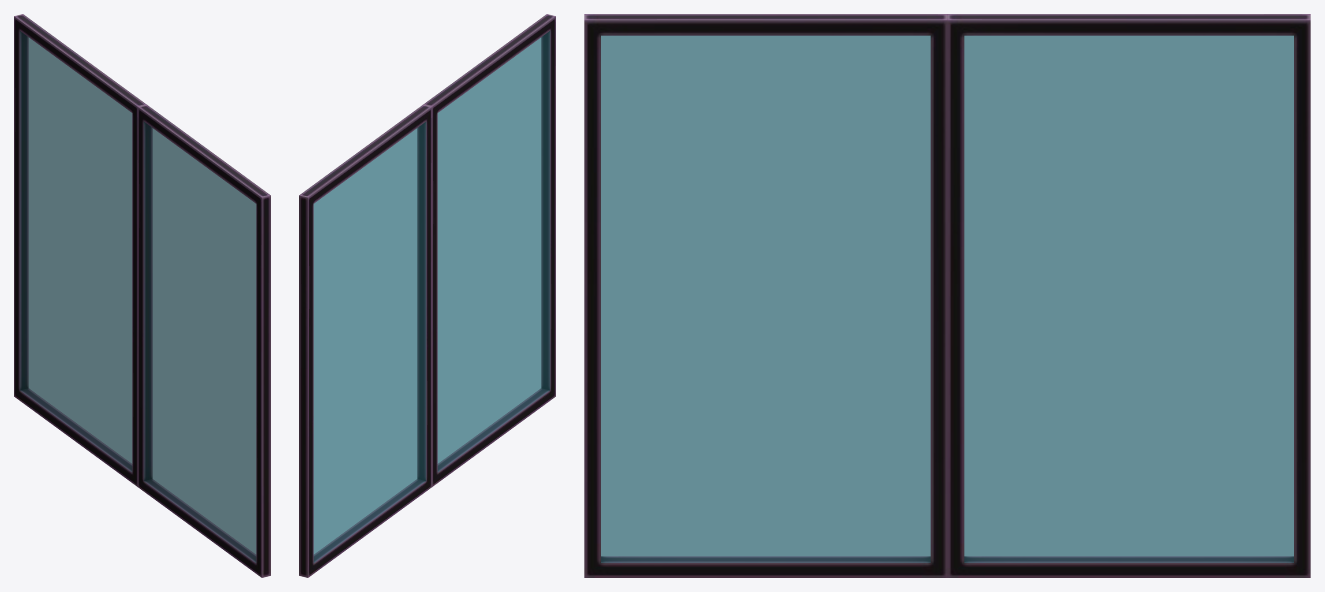
The model's file is doors.glb.
The picture shows the model from 3 angles, left to right: view 1: azimuth 30°, elevation 25°; view 2: azimuth 150°, elevation 25°; view 3: azimuth 270°, elevation 25°; orthographic projection. The views are drawn at different scales.
Parts seen in each view (by area): view 1: TCV_ExampleTeachingRoomDoor00, TCV_ExampleTeachingRoomDoor01; view 2: TCV_ExampleTeachingRoomDoor01, TCV_ExampleTeachingRoomDoor00; view 3: TCV_ExampleTeachingRoomDoor01, TCV_ExampleTeachingRoomDoor00.
Boxes of the visible parts, <box> form: TCV_ExampleTeachingRoomDoor00: <box>138,104,270,577</box>; TCV_ExampleTeachingRoomDoor01: <box>14,14,146,486</box>; TCV_ExampleTeachingRoomDoor01: <box>299,104,431,577</box>; TCV_ExampleTeachingRoomDoor00: <box>423,14,555,486</box>; TCV_ExampleTeachingRoomDoor01: <box>947,14,1310,577</box>; TCV_ExampleTeachingRoomDoor00: <box>584,14,947,577</box>.
Size of what is drawn, in the model's own units: 0.0832 by 3.35 by 3.96.
Materials: 2 (1 with a texture image).
